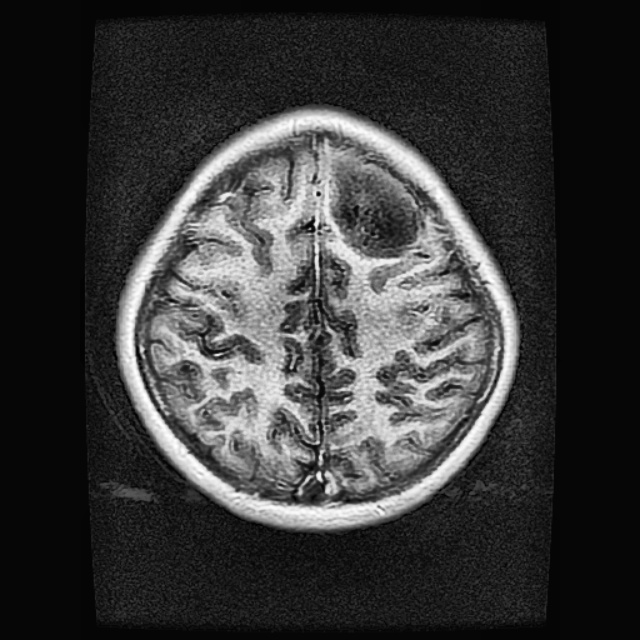Glioma: (327, 155, 425, 255)
